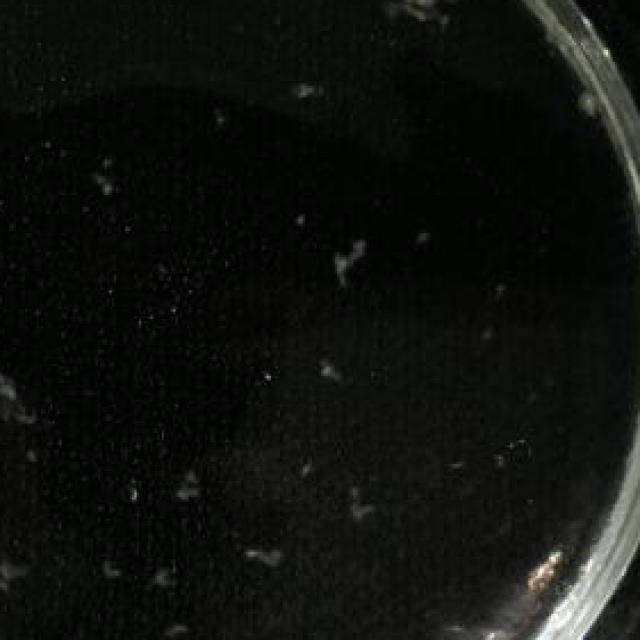Microplastic: (328, 459, 387, 535), (321, 214, 376, 288), (162, 443, 223, 509), (0, 364, 39, 450), (223, 530, 294, 576), (565, 78, 619, 131), (383, 0, 469, 29), (139, 554, 187, 600), (305, 336, 349, 383), (93, 535, 123, 602), (292, 55, 330, 107), (0, 538, 25, 602)
